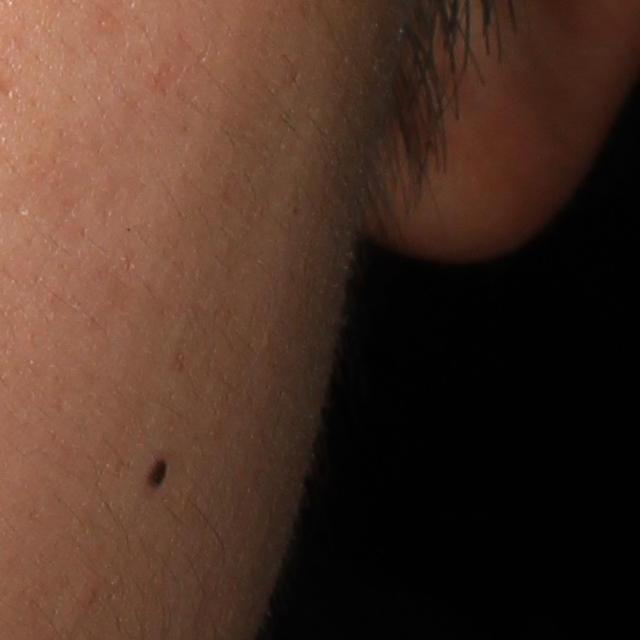nevus: (142, 456, 171, 485)
